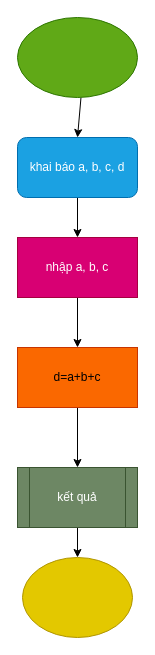
This 155x655 diagram has some shape labels left out. Here are the shapes that lost their labels. From the top down, the centre of each, then its label:
At (77,57): "bắt đầu".
At (77,597): "kết thúc".
